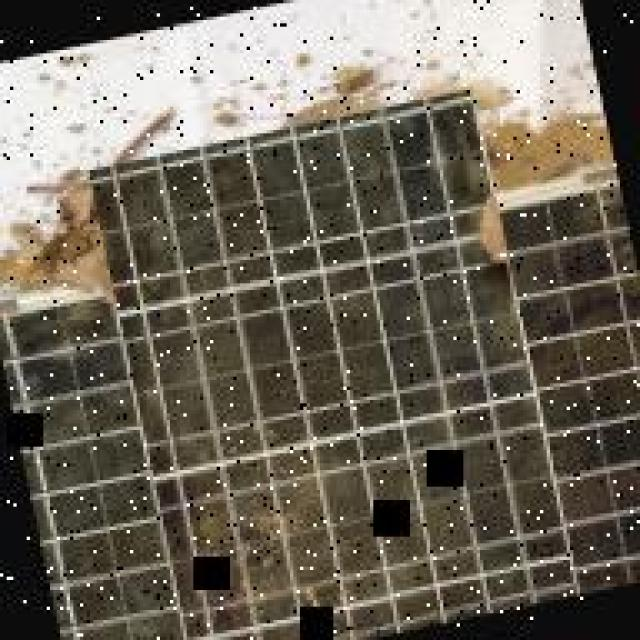dust-solar-panel: (0, 89, 640, 640)
